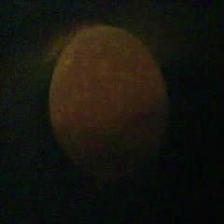fertile: (47, 23, 166, 171)
